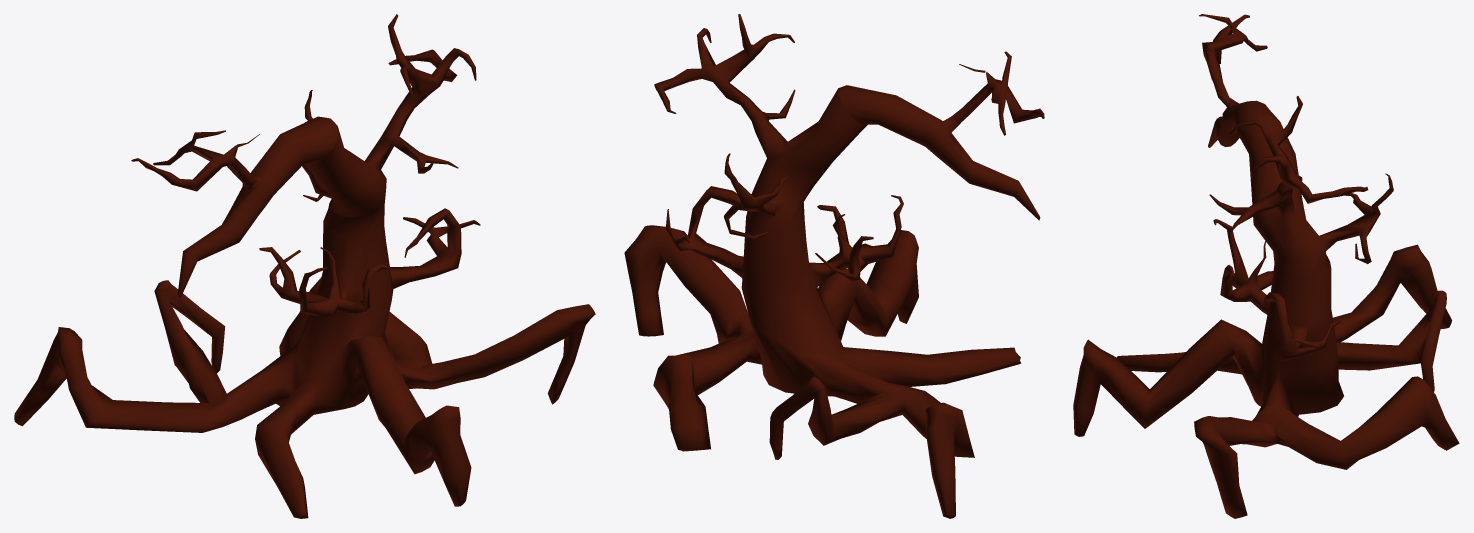
Rendered from tree1.fbx.
3 renders of one model, left to right at view 1: azimuth 30°, elevation 25°; view 2: azimuth 150°, elevation 25°; view 3: azimuth 270°, elevation 25°, orthographic. The views are drawn at different scales.
Visible parts, largest first — view 1: Cylinder; view 2: Cylinder; view 3: Cylinder.
Boxes of the visible parts, box(x1,y1,x2,y2) form: Cylinder: box(14, 14, 595, 518); Cylinder: box(624, 14, 1044, 518); Cylinder: box(1073, 14, 1459, 518).
Size of the model in its own units: 1049 by 870 by 827.
